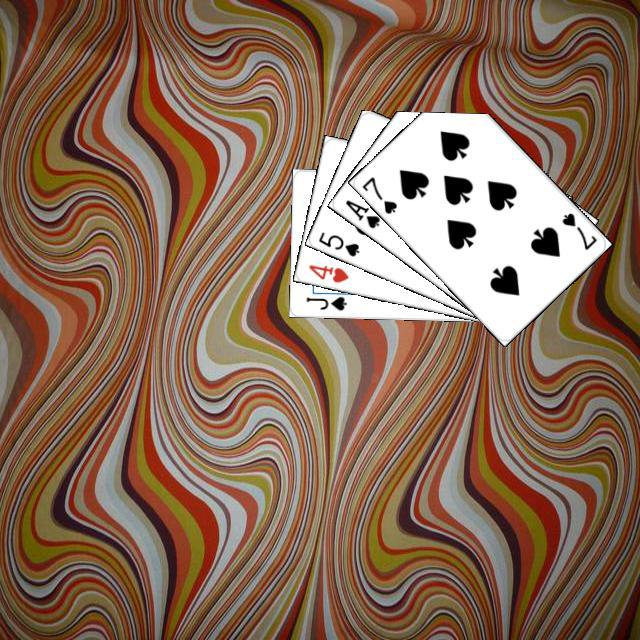4h: (304, 260, 350, 284)
5s: (313, 227, 361, 258)
7s: (357, 172, 399, 216), (557, 208, 598, 252)
As: (340, 195, 382, 230)
Js: (301, 292, 348, 312)
